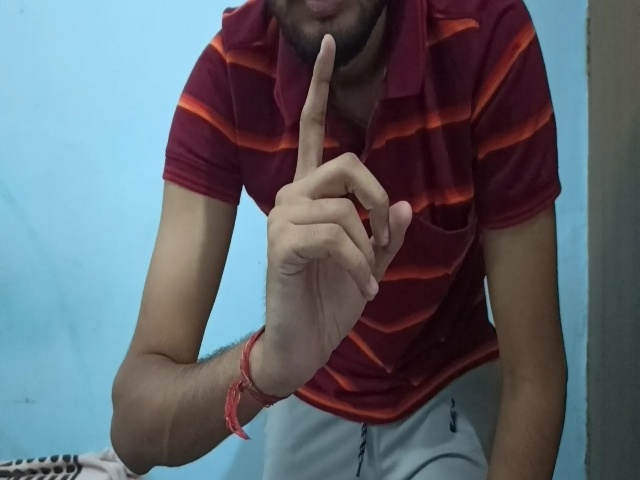D: (260, 33, 412, 389)
